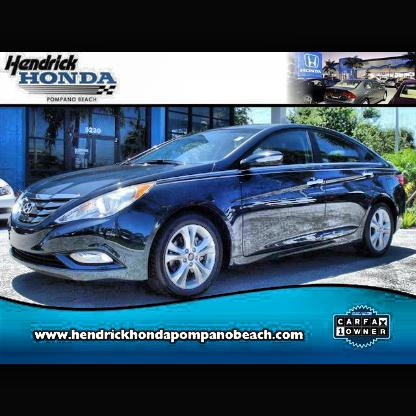Hyundai Sonata Sedan 2012: (10, 123, 409, 303)
